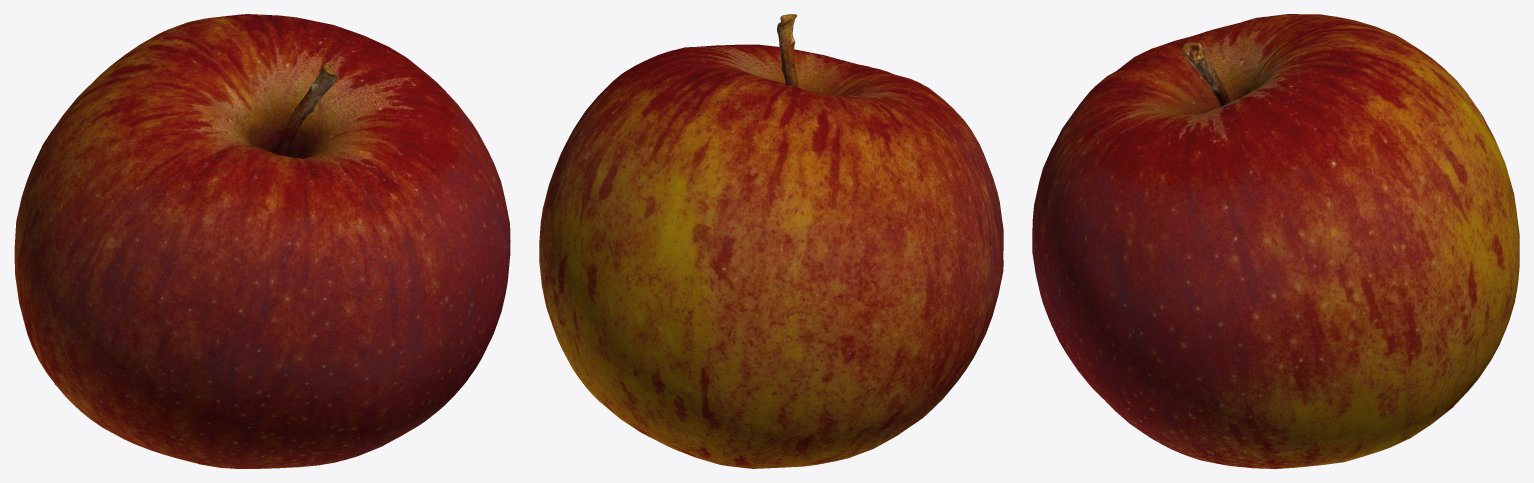
Rendered from food_apple_01.glb.
3 renders of one model, left to right at view 1: azimuth 30°, elevation 25°; view 2: azimuth 150°, elevation 25°; view 3: azimuth 270°, elevation 25°, orthographic. The views are drawn at different scales.
Parts seen in each view (by area): view 1: food_apple_01; view 2: food_apple_01; view 3: food_apple_01.
Boxes of the visible parts, x1=… form: food_apple_01: x1=14, y1=14, x2=510, y2=468; food_apple_01: x1=539, y1=14, x2=1003, y2=468; food_apple_01: x1=1032, y1=14, x2=1519, y2=468.
Bounding box in the file's own units: 0.0976 × 0.0854 × 0.0959.
1 material, 1 textured.
